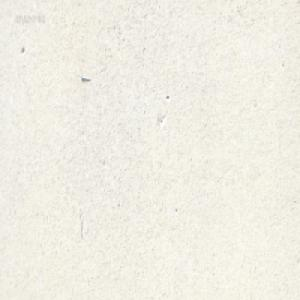Nail: (79, 74, 90, 80)
